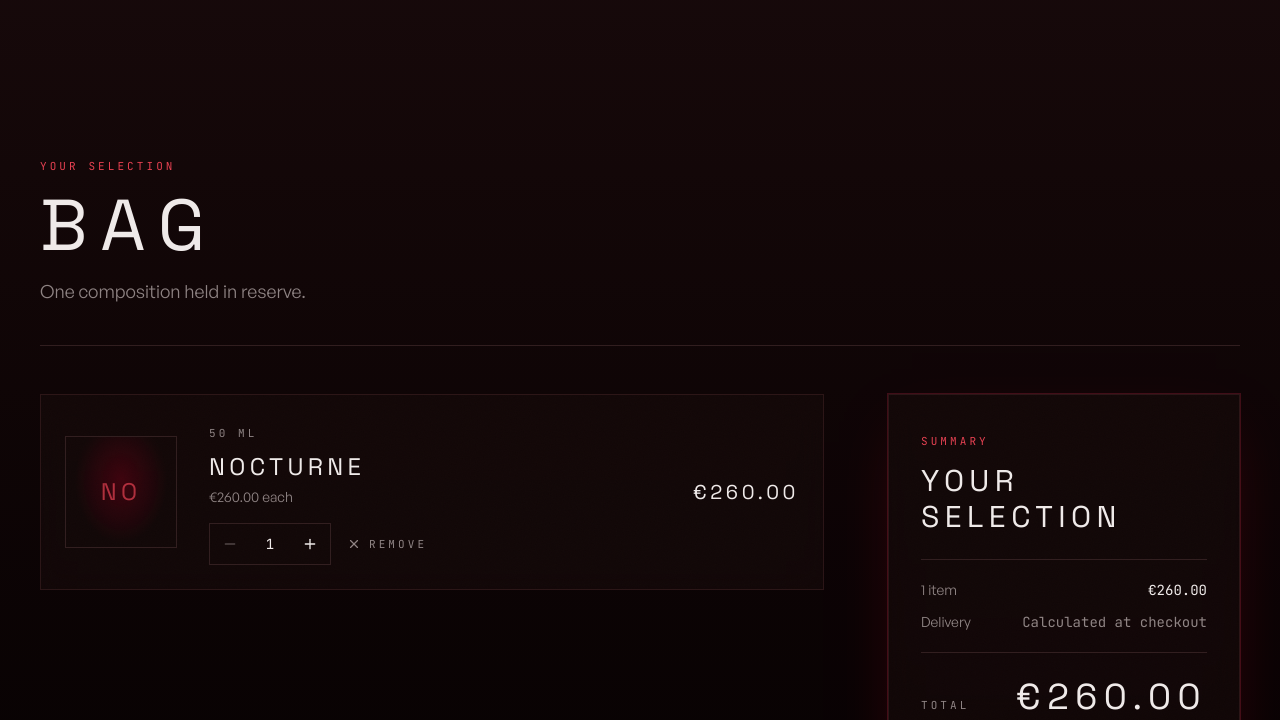
Test: bag page › removes a line and returns to the empty state
The image size is (1280, 720).
Expected: the list item with test id "bag.item.1" is shown, [40,394,824,590]
Click the button with test id "bag.remove_button.1". click: point(387, 544)
box: [347,537,427,551]
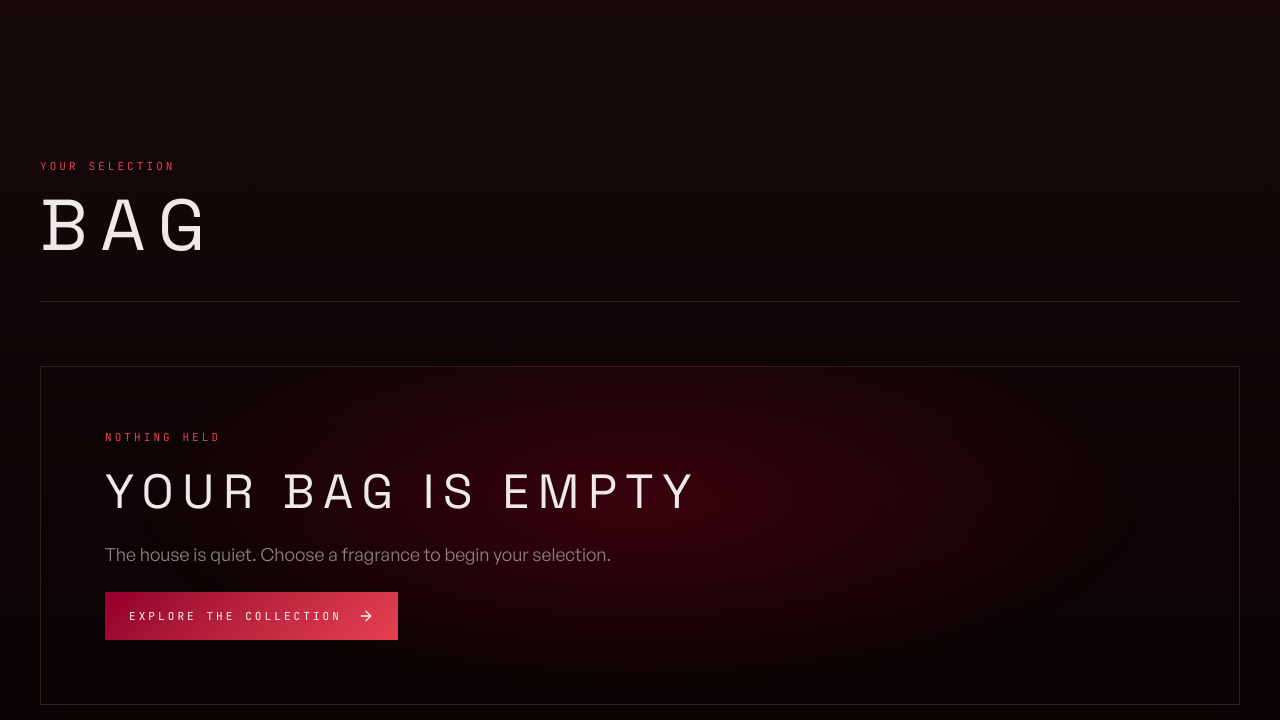
Expected: the element with test id "bag.empty_state" is shown, [40,366,1240,705]
